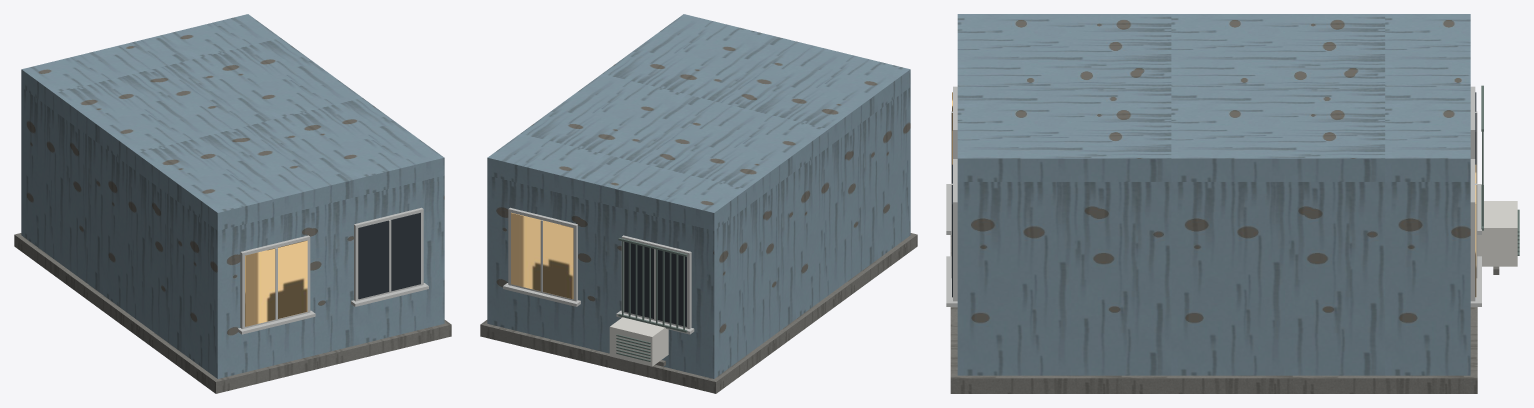
Rendered from floor_blue_narrow.glb.
3 renders of one model, left to right at view 1: azimuth 30°, elevation 25°; view 2: azimuth 150°, elevation 25°; view 3: azimuth 270°, elevation 25°, orthographic. The views are drawn at different scales.
Parts seen in each view (by area): view 1: floor_blue_narrow; view 2: floor_blue_narrow; view 3: floor_blue_narrow.
Part boxes in pixels (x1=…): floor_blue_narrow: x1=14, y1=14, x2=451, y2=393; floor_blue_narrow: x1=480, y1=14, x2=917, y2=393; floor_blue_narrow: x1=946, y1=14, x2=1519, y2=393.
Bounding box in the file's own units: 4.16 × 3 × 6.7.
9 materials, 4 textured.
